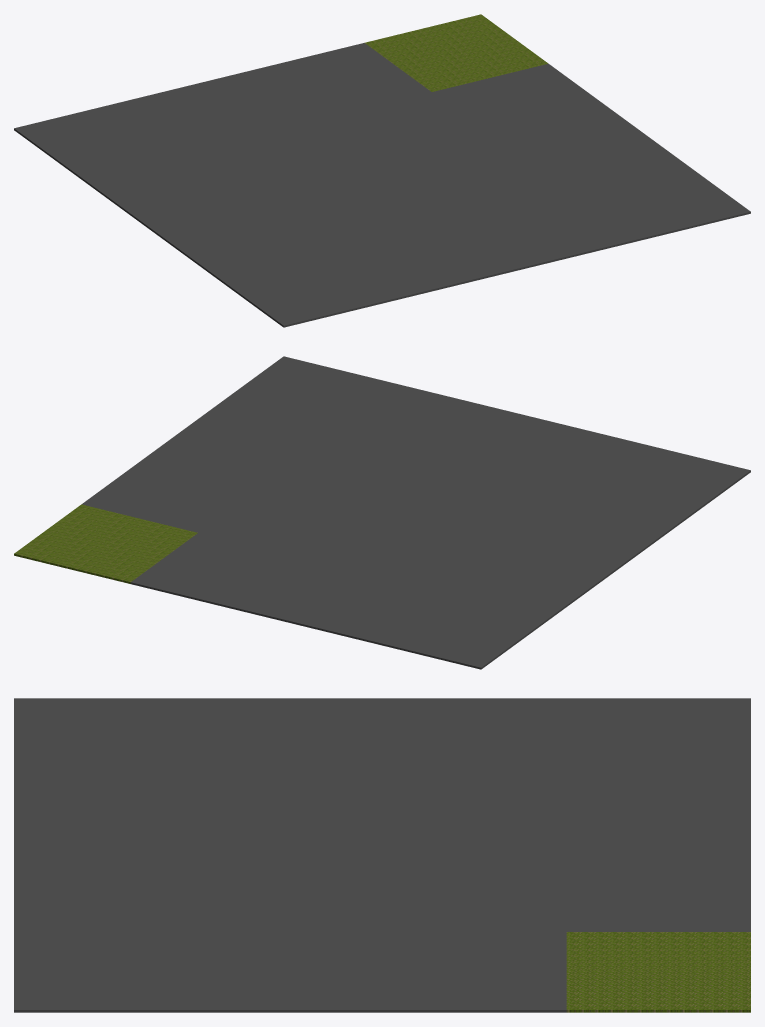
3 renders of one model, top to bottom at view 1: azimuth 30°, elevation 25°; view 2: azimuth 150°, elevation 25°; view 3: azimuth 270°, elevation 25°, orthographic. The views are drawn at different scales.
Parts seen in each view (by area): view 1: c0_base_plate-col; view 2: c0_base_plate-col; view 3: c0_base_plate-col.
Boxes of the visible parts, x1,y1,x2,y2 form: c0_base_plate-col: (14,14,750,327); c0_base_plate-col: (14,356,750,669); c0_base_plate-col: (14,698,750,1012).
Size of the model in its own units: 256 by 1 by 256.
2 materials, 1 textured.
